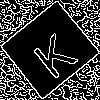K: (25, 25, 79, 82)
